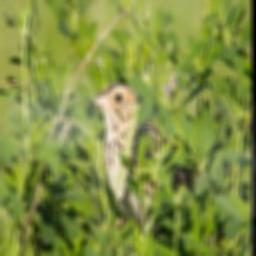Sparrow: (90, 81, 201, 242)
